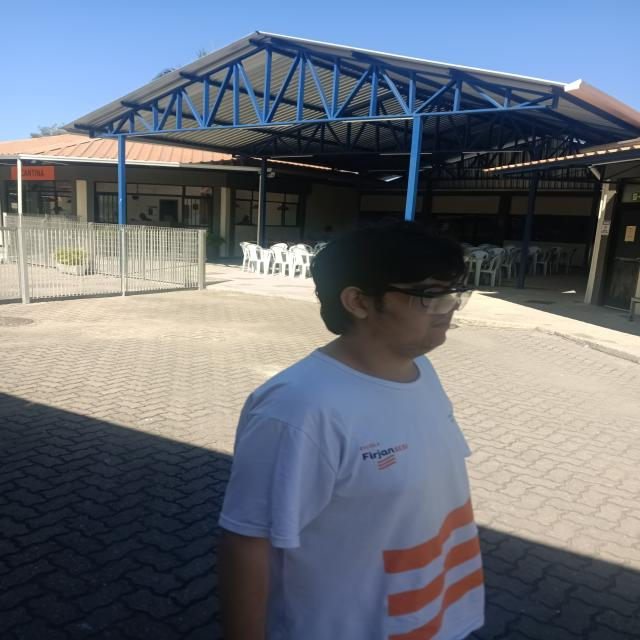oculos-epi: (378, 284, 475, 314)
